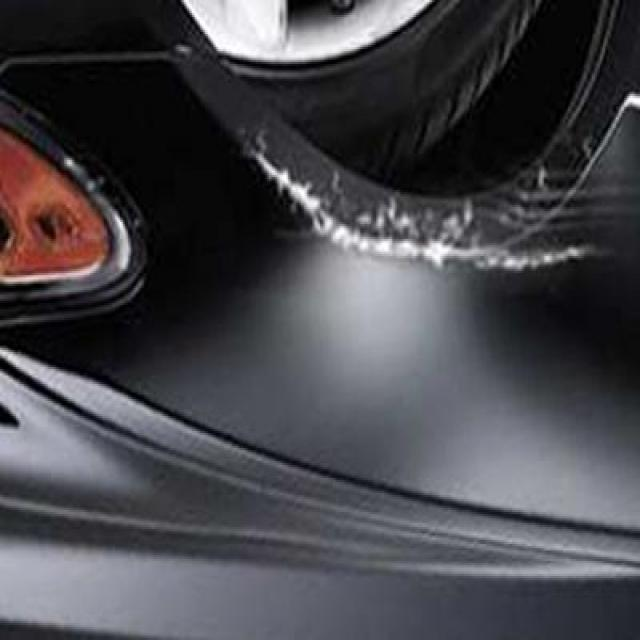scratch: (232, 114, 603, 302)
